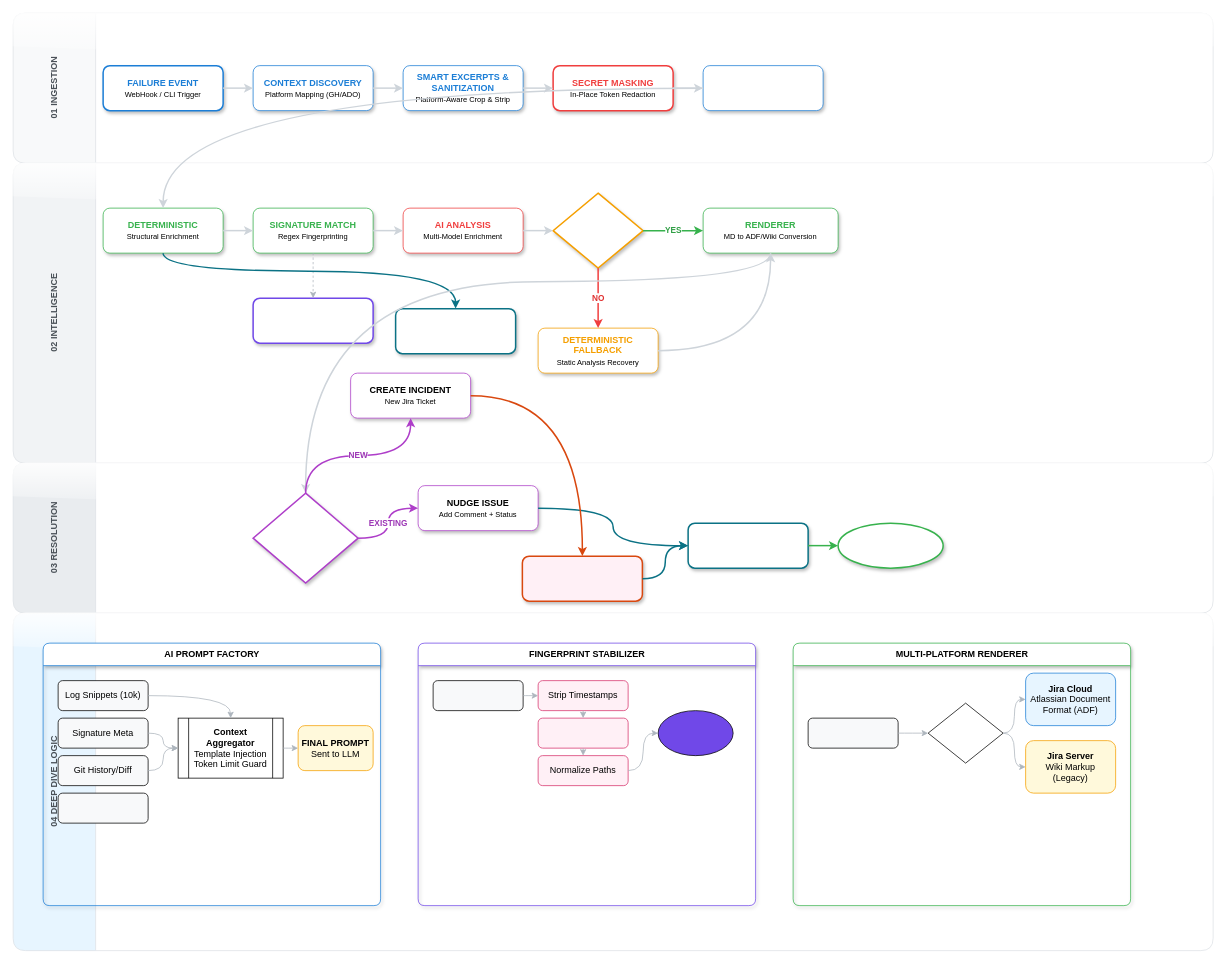
Some shapes in this 1226 by 964 pixel diagram are drawn without their labels. The centre of each missing label's shape, as x and y in pixels:
ALERT DISPATCH Slack / MS Teams: pixel 748 546
CONFIDENCE Threshold >= 0.6: pixel 598 231
DEDUP ENGINE JQL Signature Search: pixel 306 539
FINGERPRINT SHA-256 Stable Hash: pixel 313 321
Internal Markdown: pixel 852 732
Mask UUIDs/GUIDs: pixel 582 732
METRICS & TRENDS MTTR, Blast Radius, Trends: pixel 456 331
Platform Context: pixel 102 807
Raw Log Stream: pixel 477 695
SCHEMA GUARD Zod Runtime Validation: pixel 763 89
SELF-HEALING Create Draft PR: pixel 582 579
SHA-256 Binary Hash: pixel 695 733
SUCCESS Artifacts Dispatched: pixel 891 546
Version? (Auto-Detect): pixel 965 732
